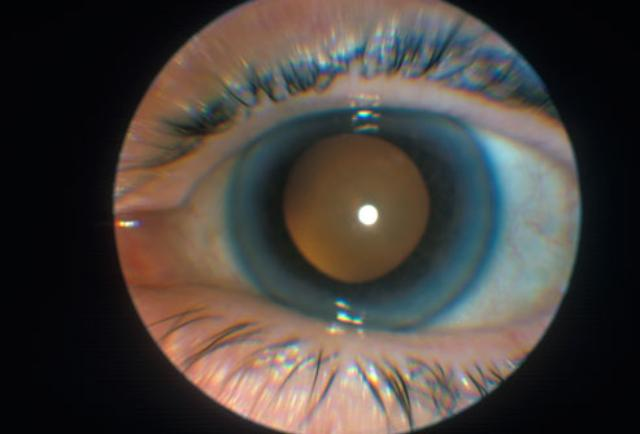eye: (223, 102, 505, 328)
